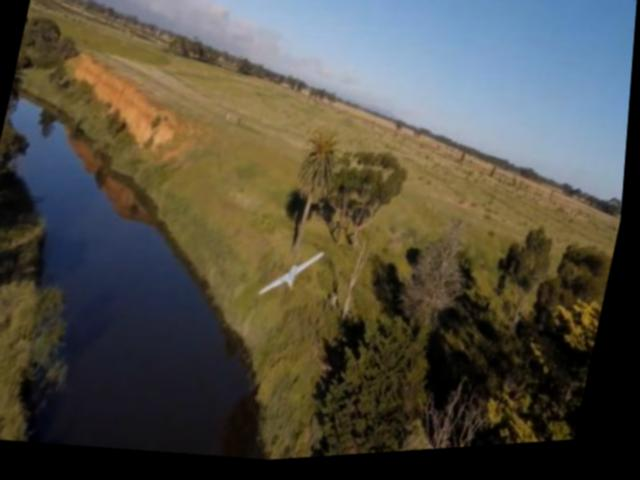uav: (261, 246, 332, 307)
